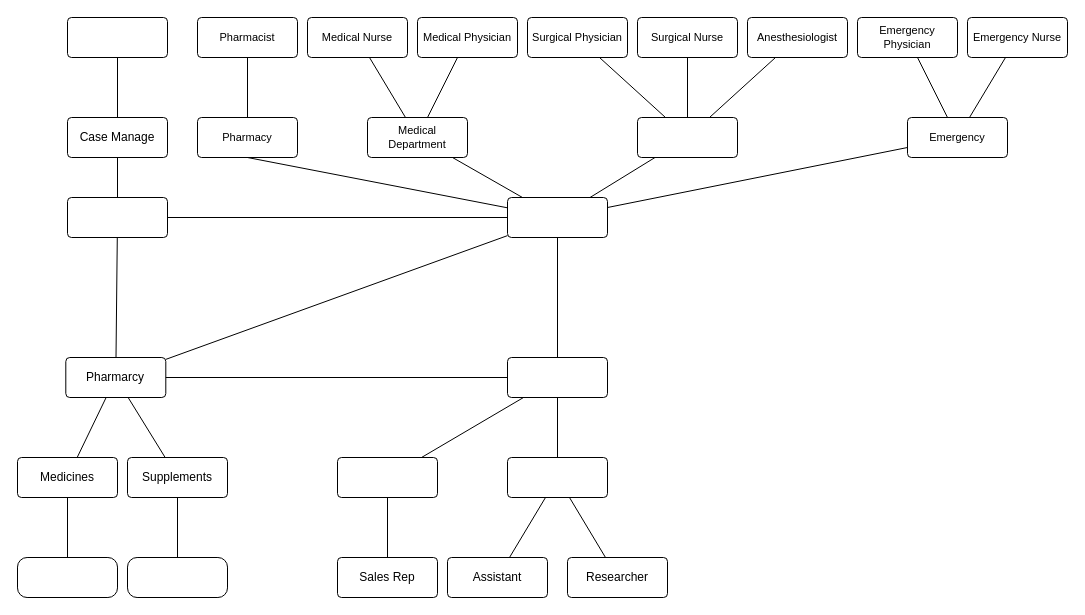
This 1085x615 diagram has some shape labels left out. Each missing label, with the box of its shape:
Case Manager: (66, 16, 168, 58)
Hospital: (506, 196, 608, 238)
Lab Department: (506, 456, 608, 498)
Medical Company: (506, 356, 608, 398)
Medicine Supplier: (16, 556, 118, 598)
Sales Department: (336, 456, 438, 498)
Social Insurance Institude: (66, 196, 168, 238)
Supplement Supplier: (126, 556, 228, 598)
Surgical Department: (636, 116, 738, 158)
